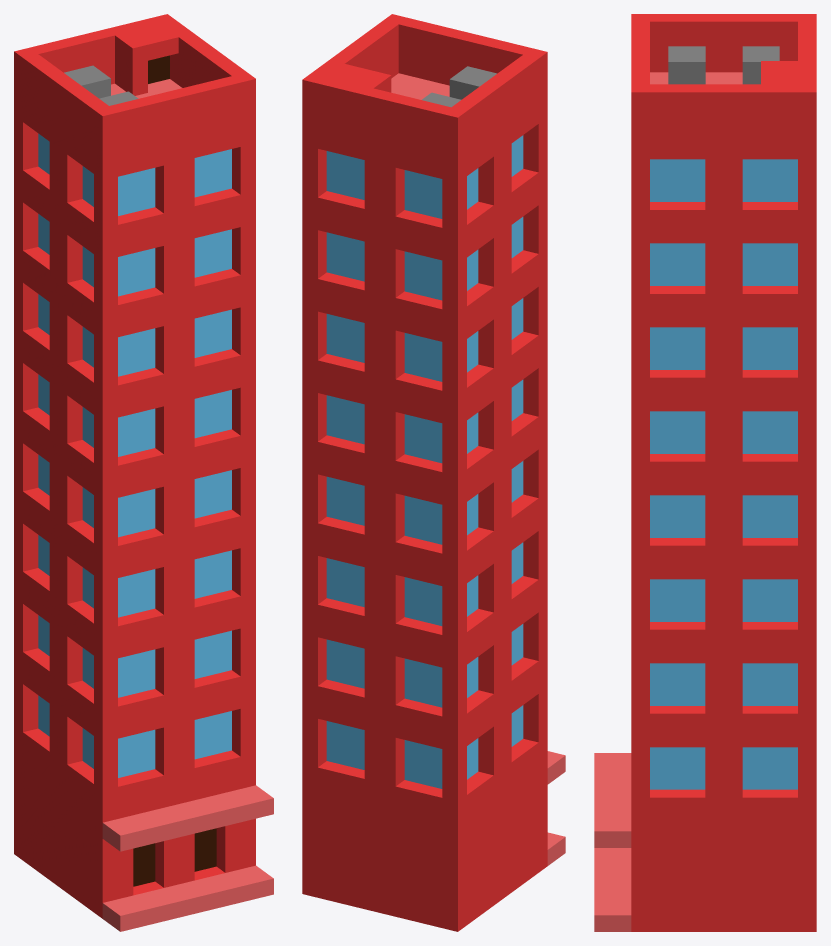
Rendered from Building 1.ojb.obj.
The picture shows the model from 3 angles, left to right: view 1: azimuth 30°, elevation 25°; view 2: azimuth 150°, elevation 25°; view 3: azimuth 270°, elevation 25°; orthographic projection. The views are drawn at different scales.
Size of the model in its own units: 1 by 5 by 1.2.
1 material, 1 textured.
